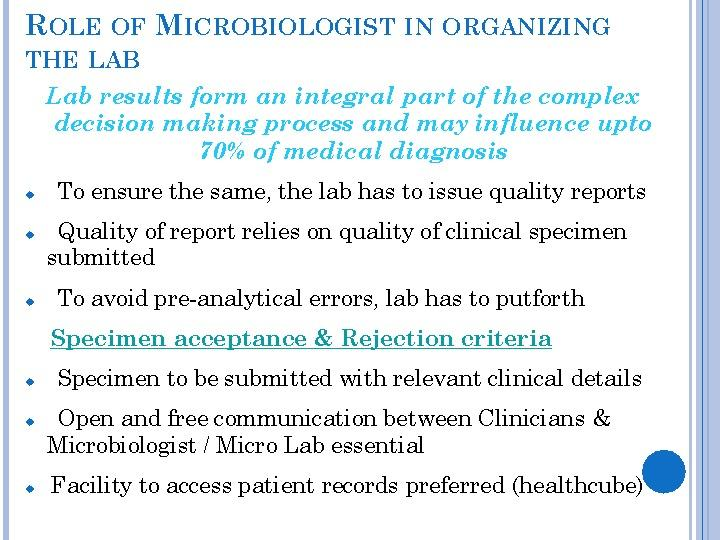paragraph: (6, 176, 682, 515)
subtitle: (42, 78, 668, 173)
title: (20, 1, 644, 80)
